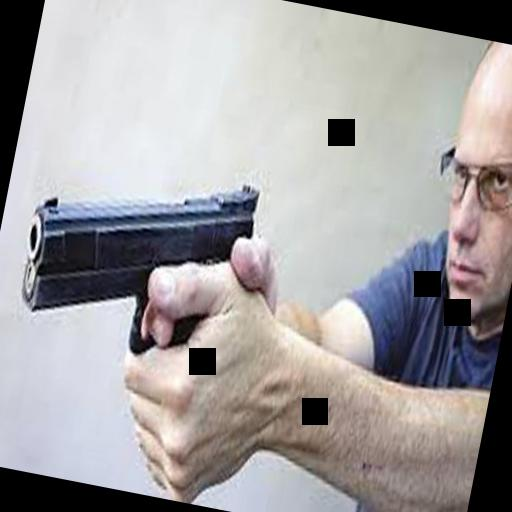Handgun: (8, 145, 269, 387)
